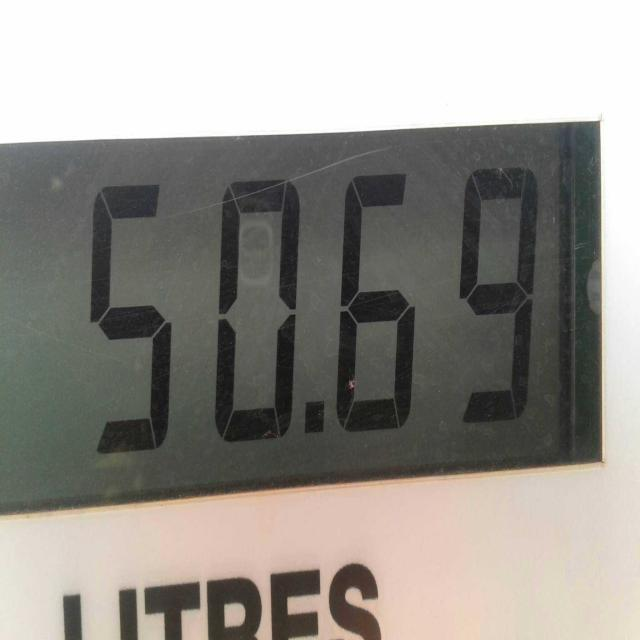.: (297, 385, 331, 455)
0: (212, 181, 297, 439)
5: (88, 181, 180, 453)
6: (338, 174, 428, 436)
9: (464, 174, 540, 426)
